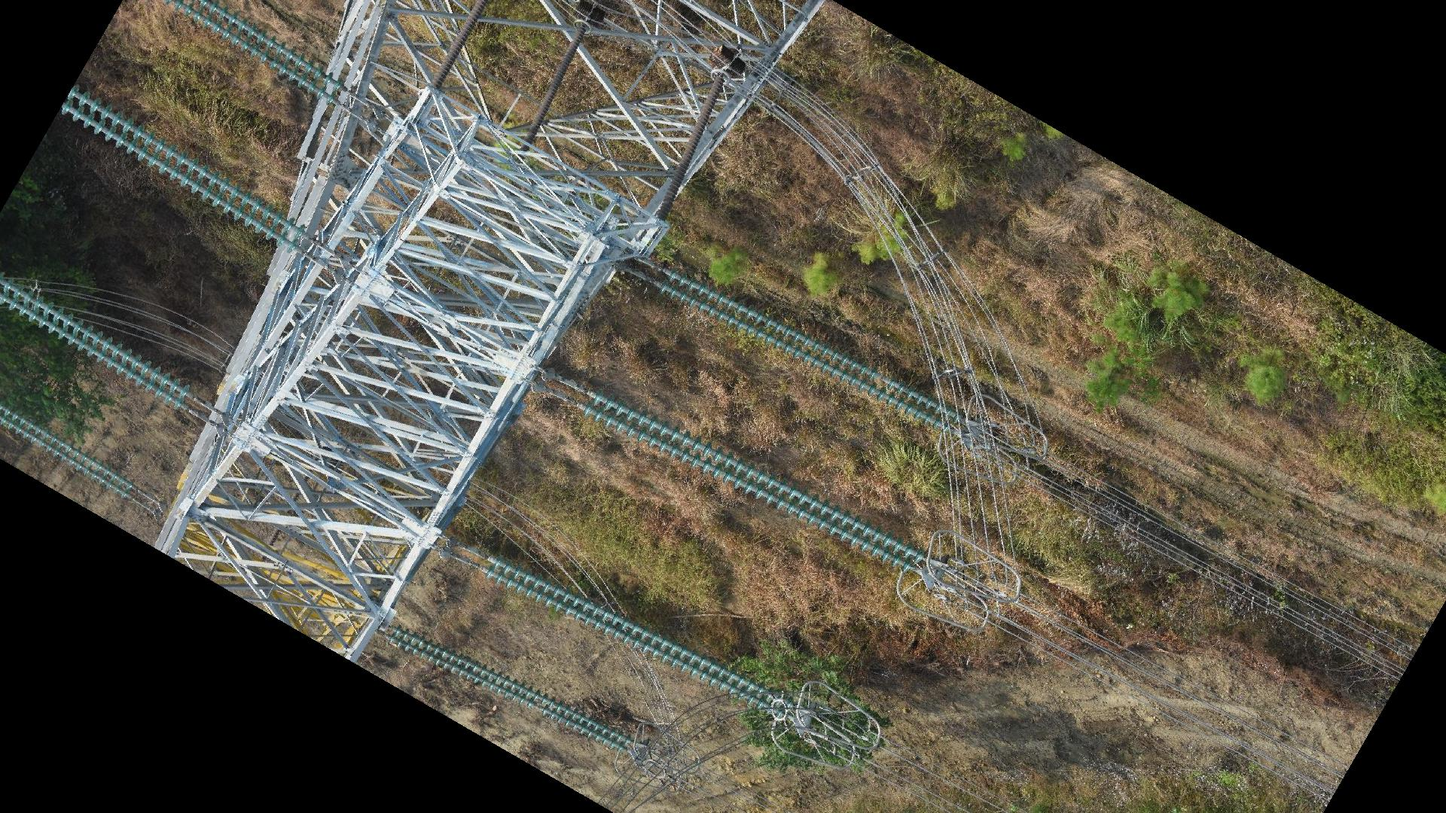insulator: (580, 387, 928, 576), (654, 267, 965, 438), (484, 551, 779, 712), (58, 80, 310, 257), (387, 623, 634, 755), (1, 275, 194, 413), (168, 1, 346, 106), (1, 398, 138, 502), (655, 73, 725, 221), (522, 24, 589, 148), (428, 1, 490, 89)
insulator_stringdrop: (867, 367, 898, 392), (526, 696, 552, 718)
